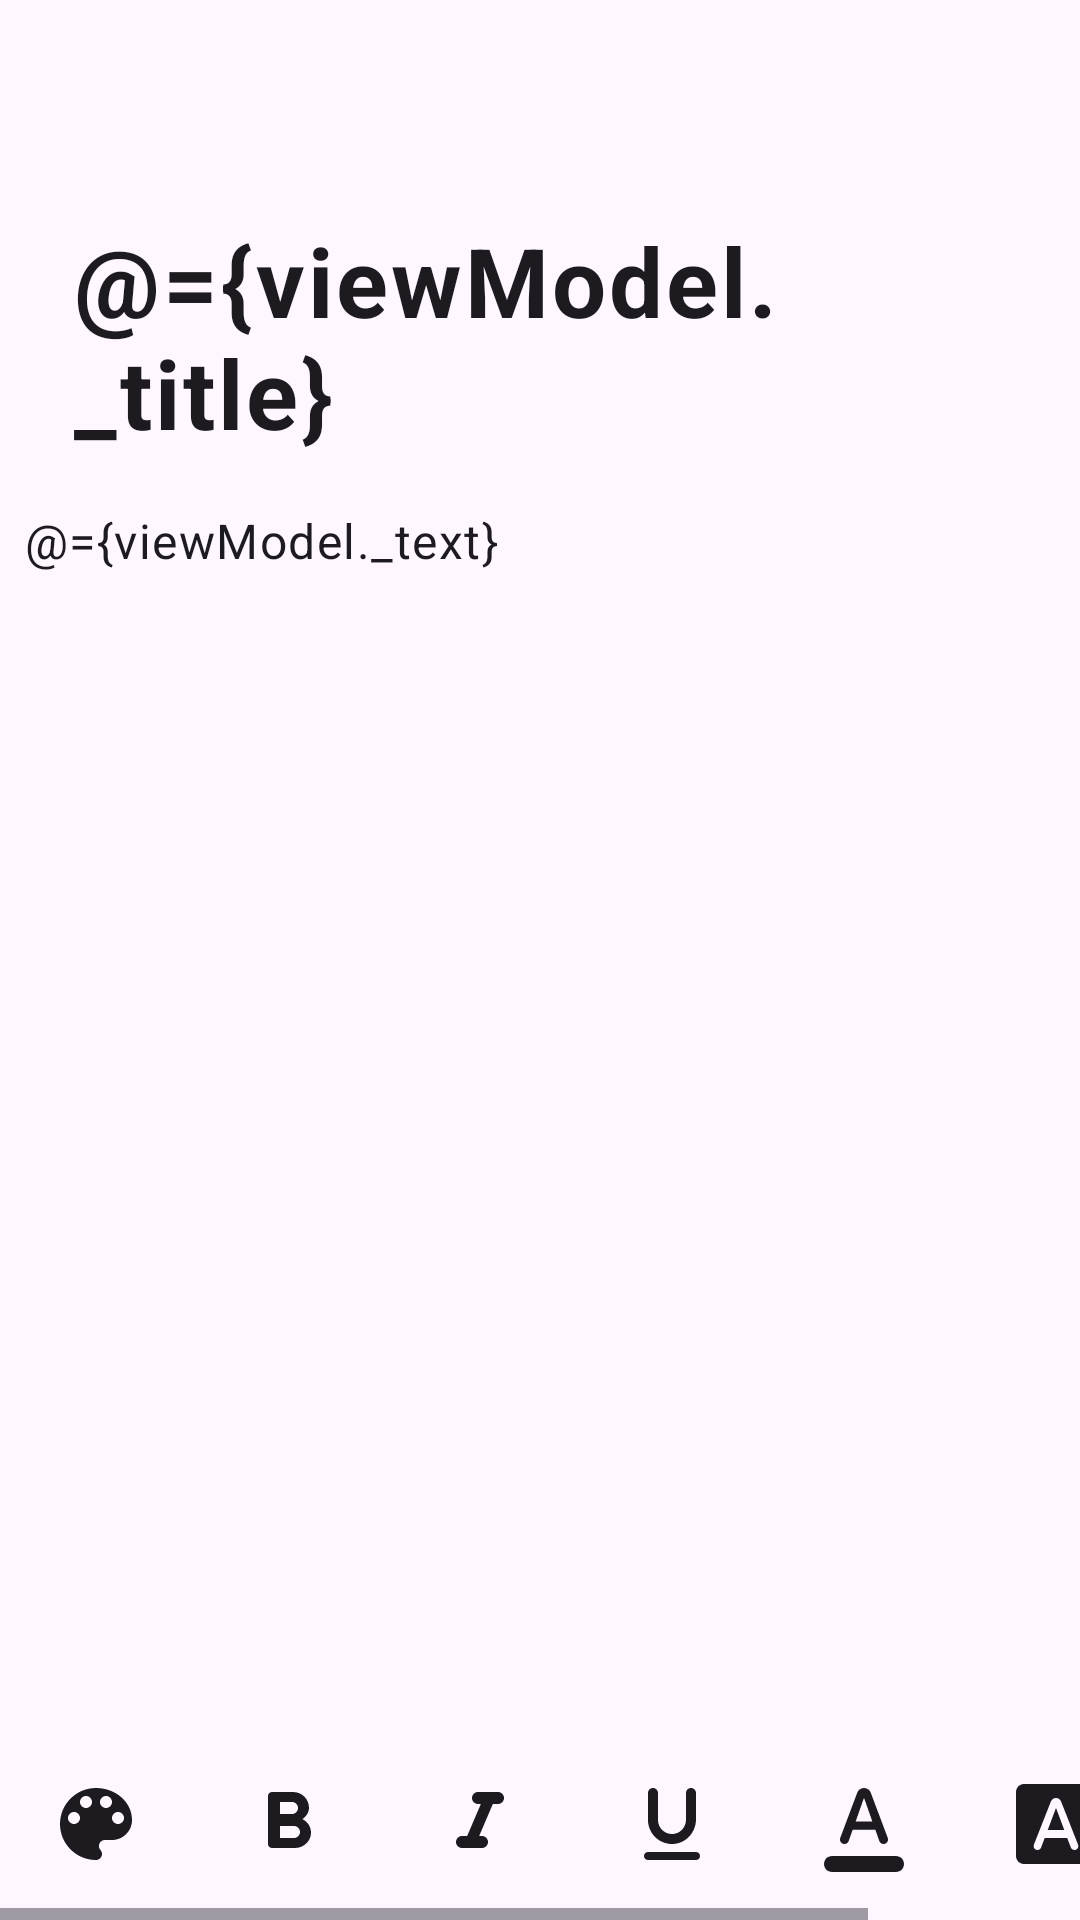

Named icons in this screenshot (1080 × 1920) and their centers, (x,y):
font italic: (480,1820)
font underlined: (672,1824)
